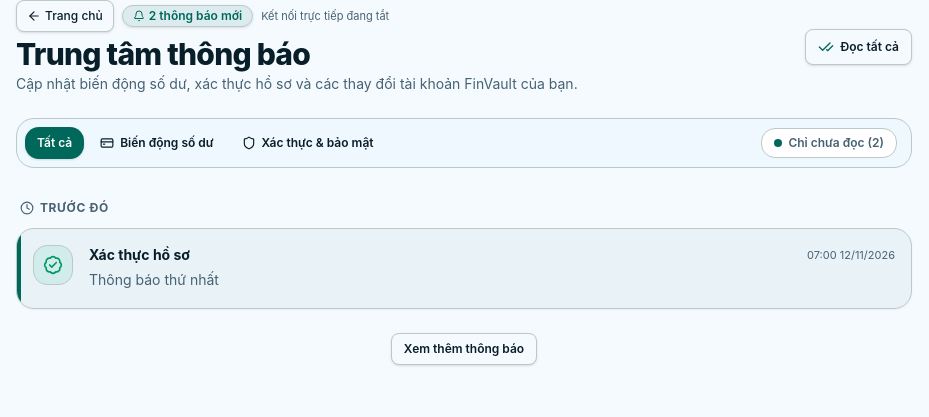
Test: refreshes both loaded feed pages without skipping a page or duplicating rows
Expected: the text "Thông báo thứ nhất" is shown, [89,271,219,288]
Click the button "Xem thêm thông báo". click: click(464, 349)
box: [391,333,537,365]
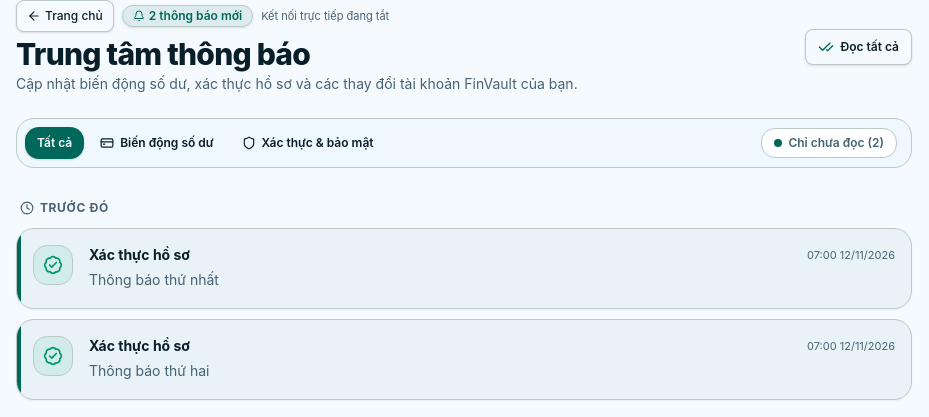
Result: the text "Thông báo thứ hai" is shown once at [89,362,209,379]
